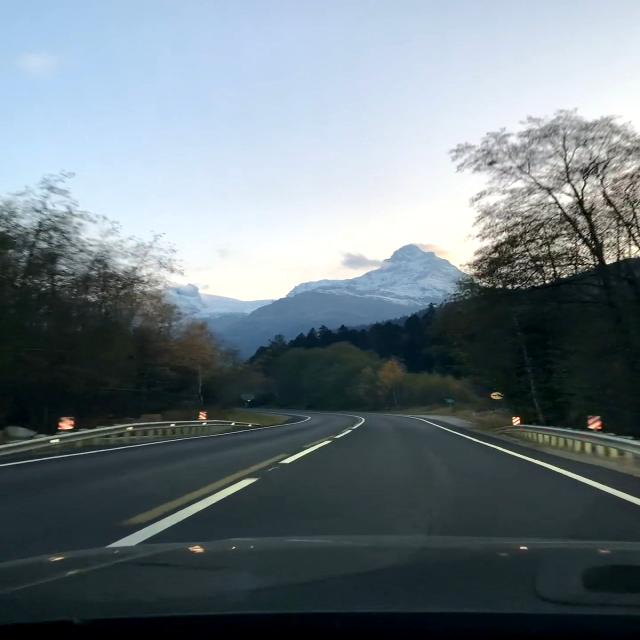lane: (407, 416, 640, 504), (107, 478, 258, 548), (280, 441, 331, 464), (336, 429, 351, 438)
road: (3, 412, 637, 640)
